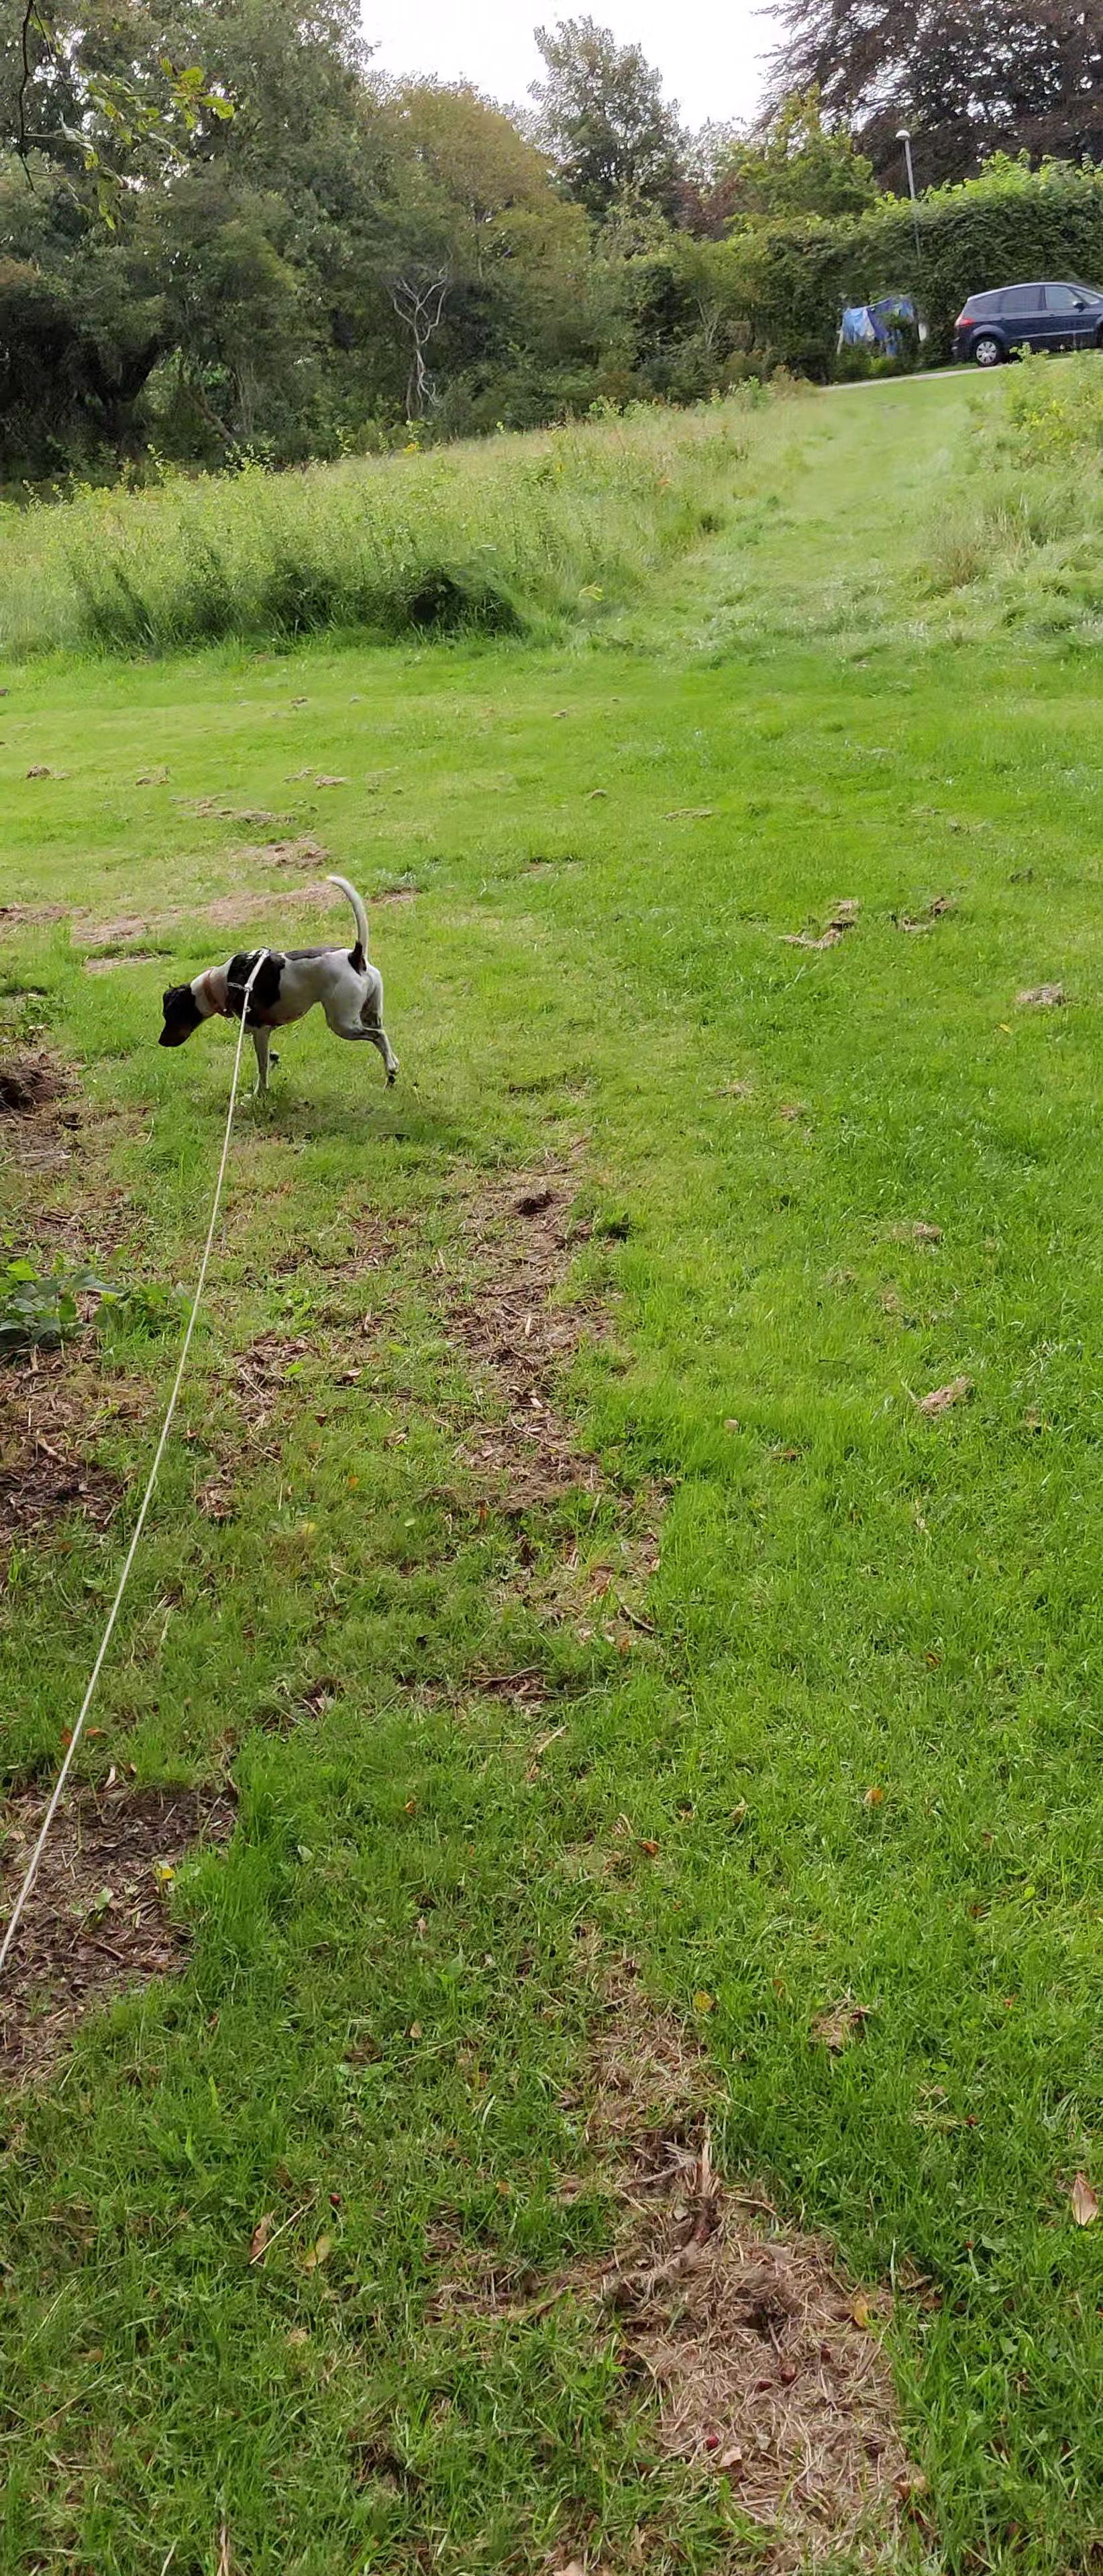Dog: (146, 864, 408, 1114)
